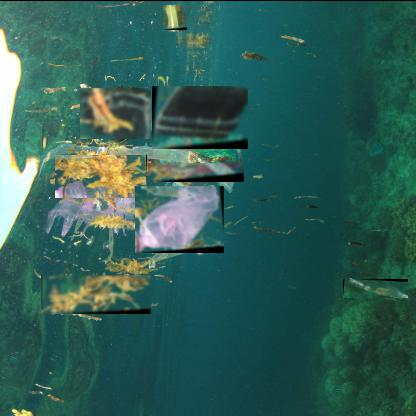bottle: (343, 277, 409, 297)
plastic-bag: (135, 184, 225, 252)
waste: (152, 84, 249, 148), (41, 272, 152, 312), (55, 153, 148, 197), (80, 86, 152, 138), (148, 161, 245, 181), (164, 3, 190, 29)
